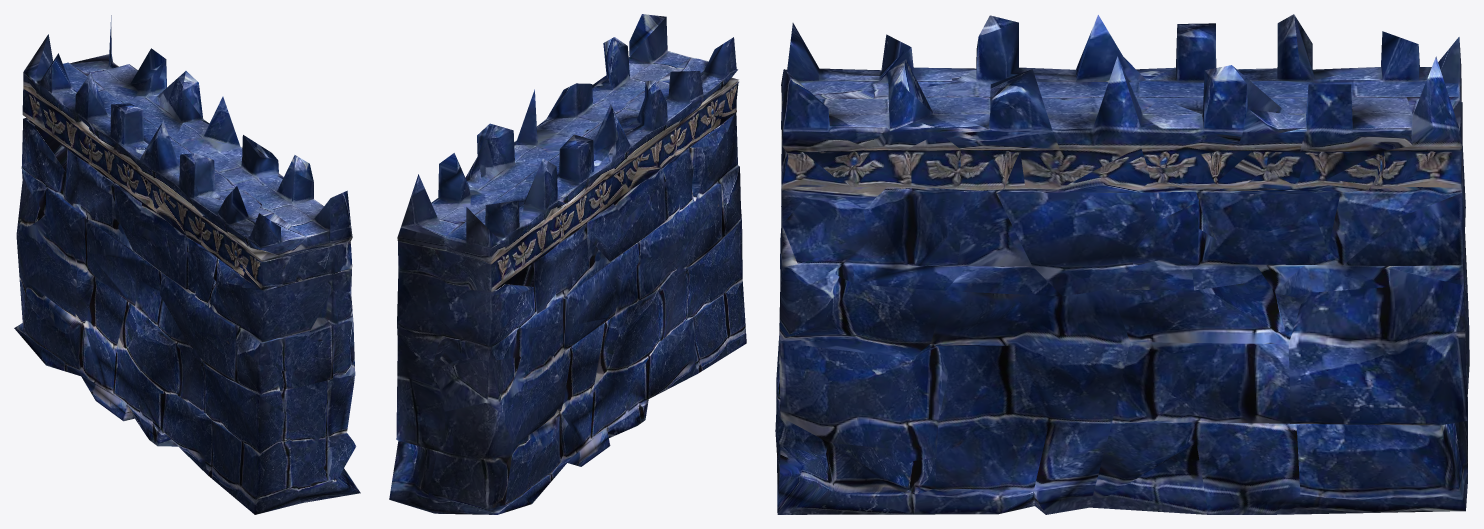
File: castle_wall_diamond_blue.glb
3 views of the same model, side by side, from view 1: azimuth 30°, elevation 25°; view 2: azimuth 150°, elevation 25°; view 3: azimuth 270°, elevation 25° (orthographic). The views are drawn at different scales.
Visible parts, largest first — view 1: tripo_node_4d6723c9-b4d3-45b2-8bd0-0aed83f6a9ae; view 2: tripo_node_4d6723c9-b4d3-45b2-8bd0-0aed83f6a9ae; view 3: tripo_node_4d6723c9-b4d3-45b2-8bd0-0aed83f6a9ae.
Boxes of the visible parts, x1,y1,x2,y2 form: tripo_node_4d6723c9-b4d3-45b2-8bd0-0aed83f6a9ae: [14, 15, 360, 514]; tripo_node_4d6723c9-b4d3-45b2-8bd0-0aed83f6a9ae: [389, 14, 746, 514]; tripo_node_4d6723c9-b4d3-45b2-8bd0-0aed83f6a9ae: [775, 14, 1469, 514].
Size of the model in its own units: 0.2633 by 0.6937 by 0.9774.
Materials: 1 (1 with a texture image).
